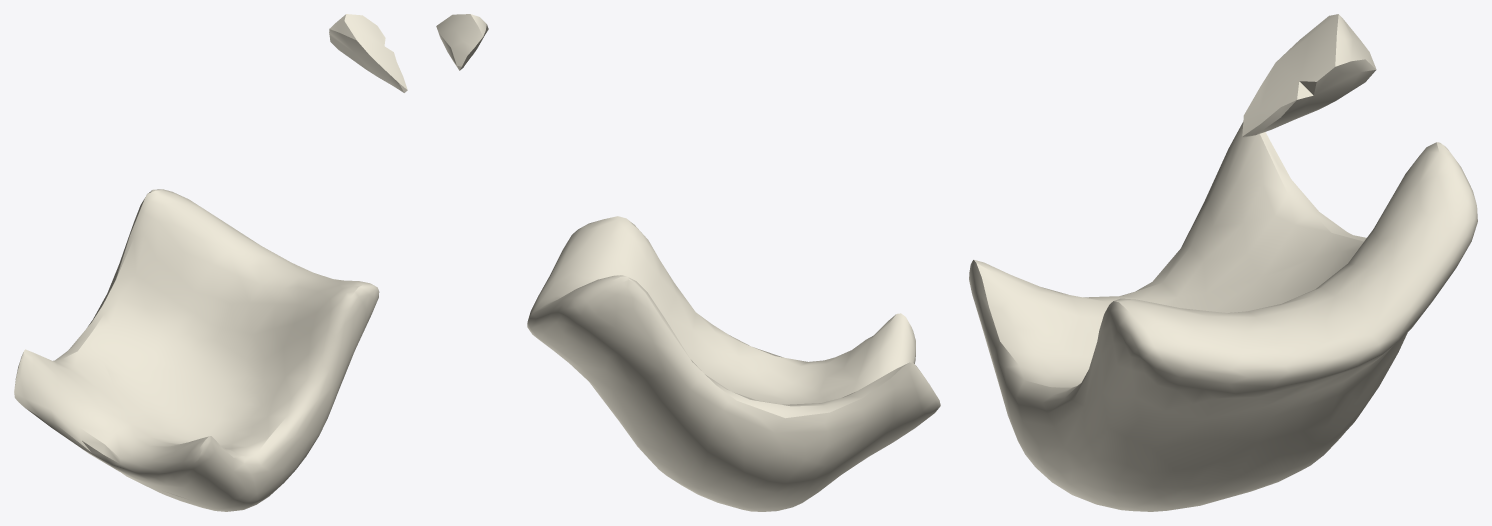
The model's file is fma296537_mm1560m.glb.
3 renders of one model, left to right at view 1: azimuth 30°, elevation 25°; view 2: azimuth 150°, elevation 25°; view 3: azimuth 270°, elevation 25°, orthographic. The views are drawn at different scales.
Visible parts, largest first — view 1: FMA296537_MM1560M; view 2: FMA296537_MM1560M; view 3: FMA296537_MM1560M.
Part boxes in pixels (x1=…): FMA296537_MM1560M: x1=14, y1=14, x2=407, y2=511; FMA296537_MM1560M: x1=436, y1=14, x2=940, y2=511; FMA296537_MM1560M: x1=969, y1=14, x2=1477, y2=511.
Bounding box in the file's own units: 0.02 × 0.0188 × 0.0138.
